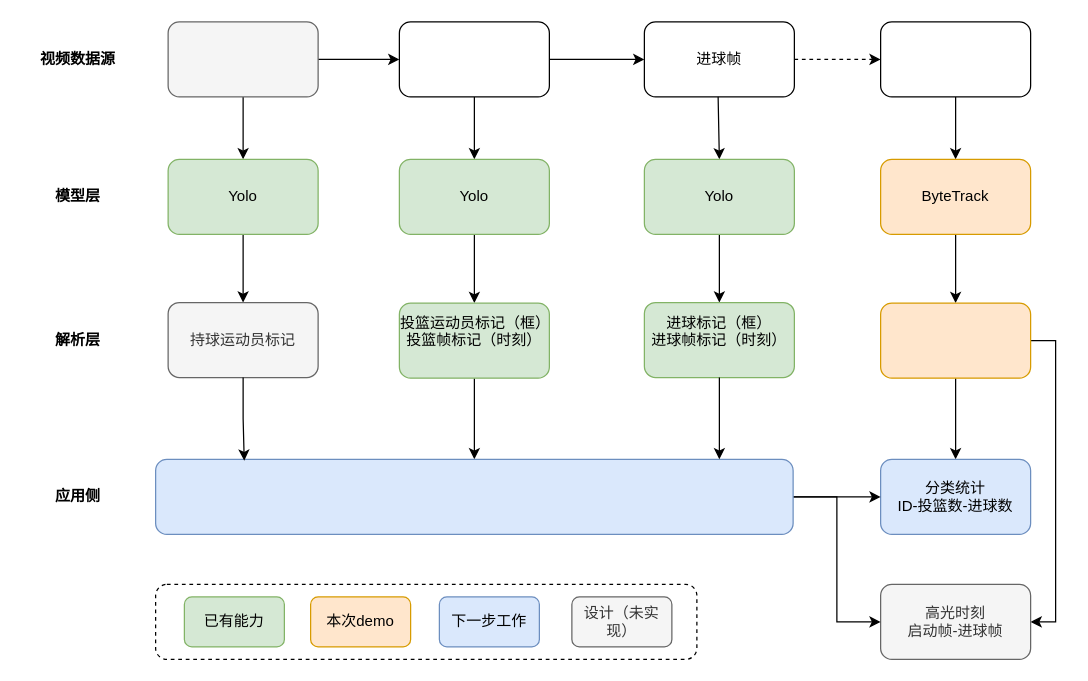
This 1088x681 diagram has some shape labels left out. The centre of each missing label's shape, as x and y in pixels:
"启动帧" goes at [242,59].
"投篮帧" goes at [473,59].
"视频理解结果 （结构化数据，类似JSON）" goes at [473,496].
"视频结束" goes at [955,59].
"运动员ID- 运动员位置（时间序列-框） 置信度（框）" goes at [955,340].
